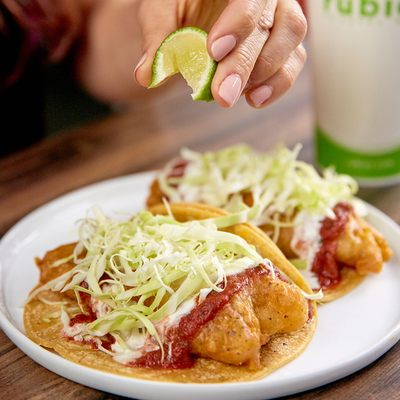pizza: (306, 0, 400, 184)
soup: (8, 208, 316, 382)
